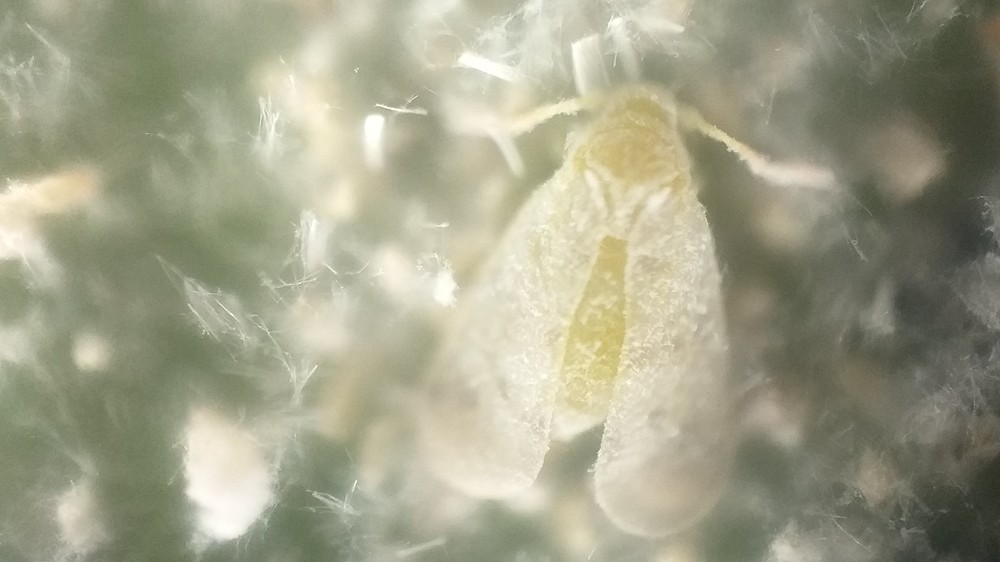Mosca Blanca: (399, 74, 870, 542)
